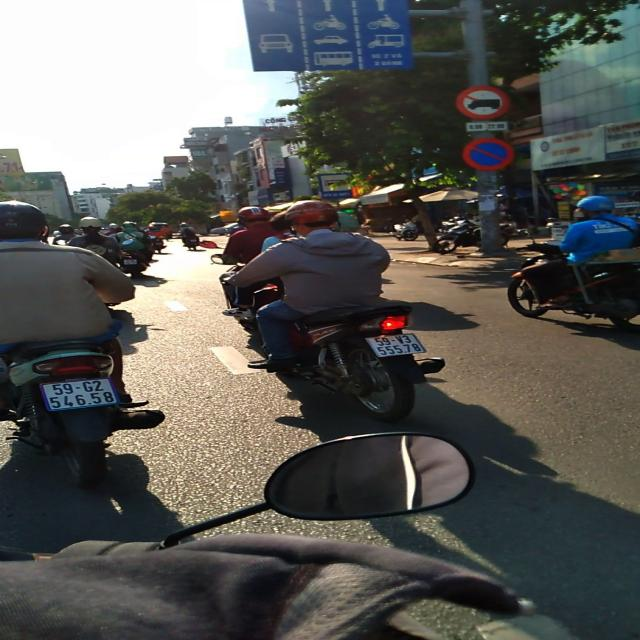Cam con lai: (455, 85, 511, 120)
Cam do: (462, 138, 514, 172)
